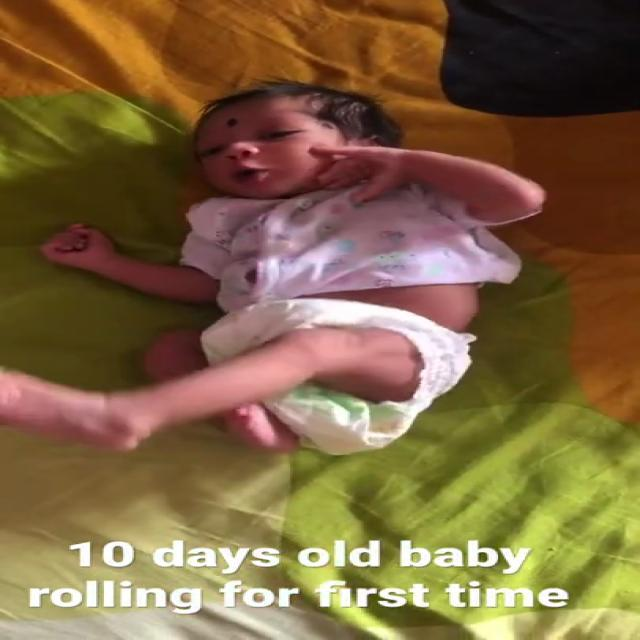baby: (0, 83, 548, 475)
